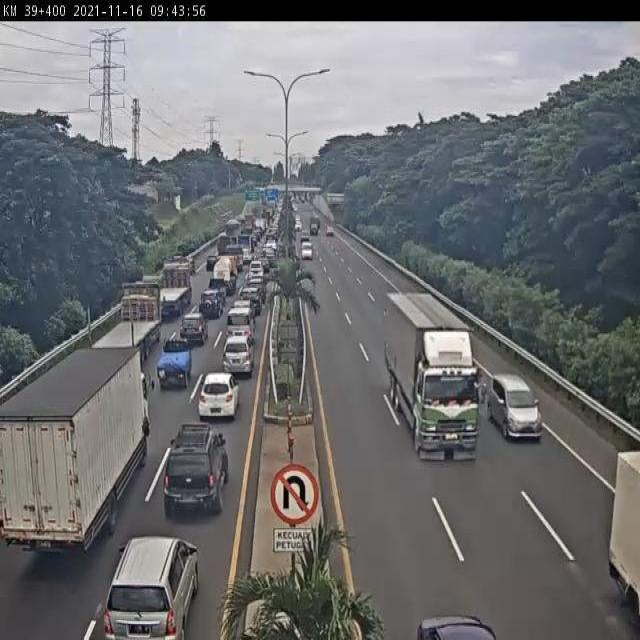car: (93, 536, 198, 640), (163, 420, 230, 519), (490, 372, 543, 441), (199, 368, 239, 421), (155, 341, 194, 395), (222, 335, 255, 380), (225, 308, 254, 348), (177, 319, 205, 352), (199, 291, 222, 321)
truck-l-: (385, 291, 487, 461), (89, 283, 163, 360), (151, 259, 193, 317)
truck-m-: (0, 347, 146, 573)
